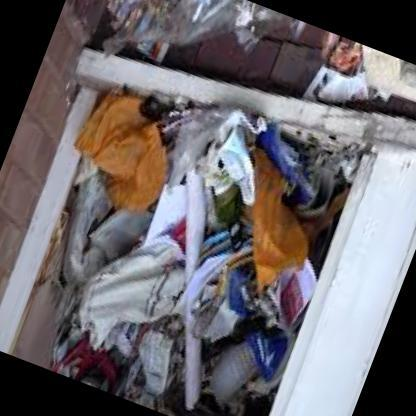Garbage: (104, 71, 314, 272), (59, 80, 186, 216), (172, 273, 286, 390), (69, 0, 201, 73), (294, 29, 380, 107), (276, 162, 332, 238)
